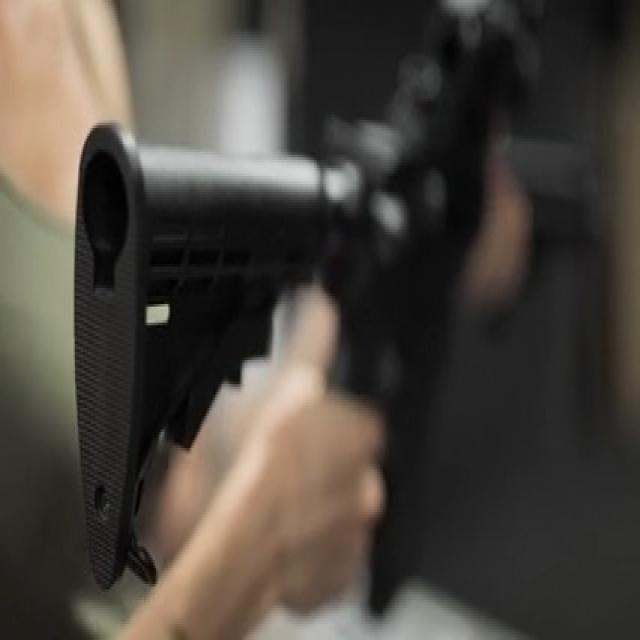Gun_Holder: (65, 0, 615, 589)
